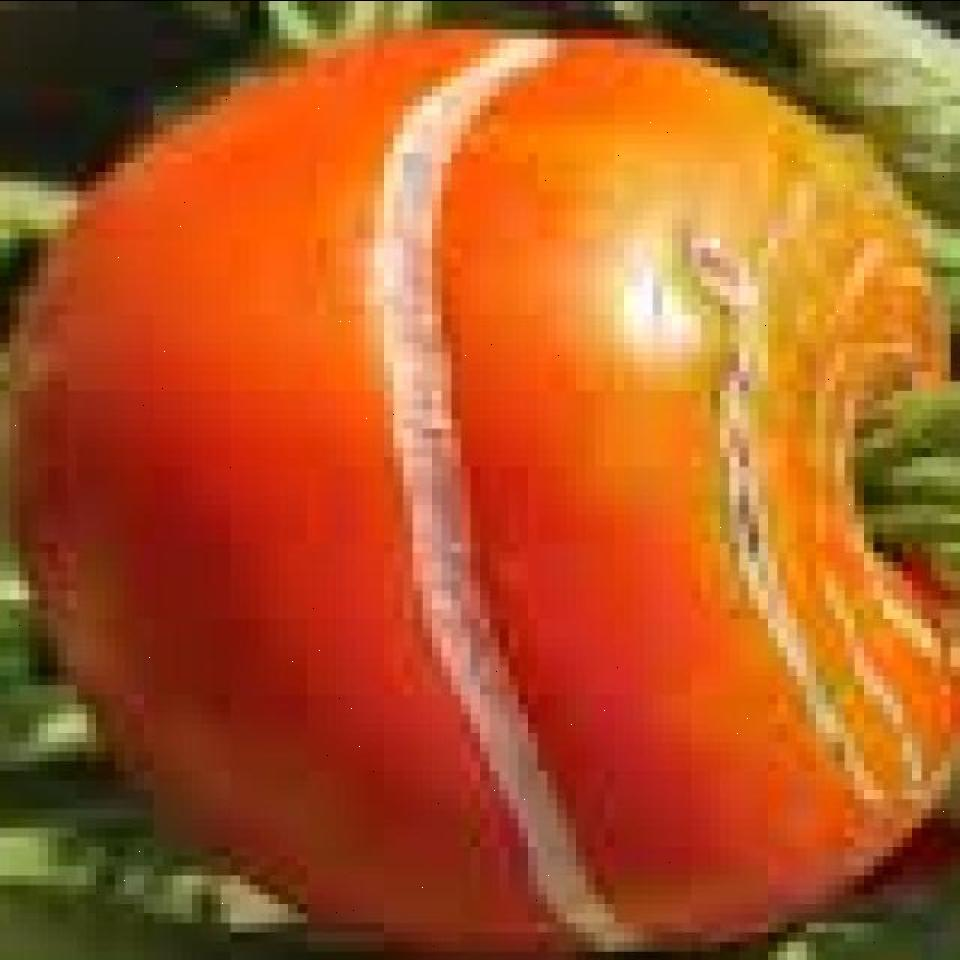Cracking: (347, 28, 659, 944), (699, 84, 960, 854)
